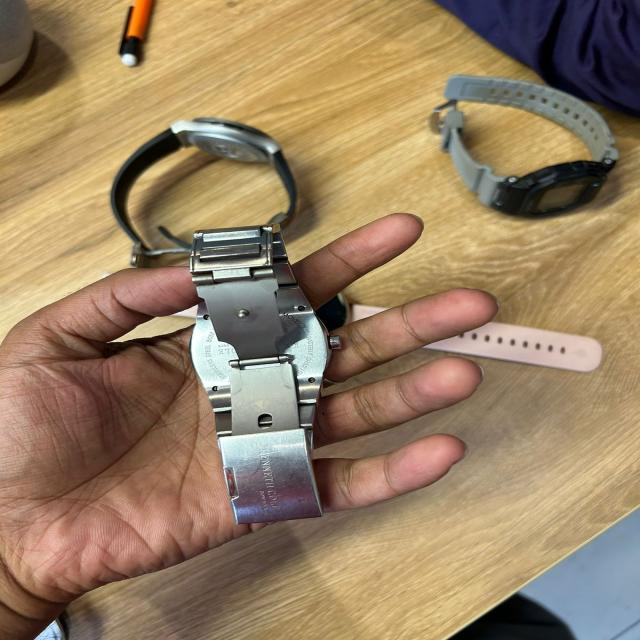watch: (186, 222, 336, 526)
